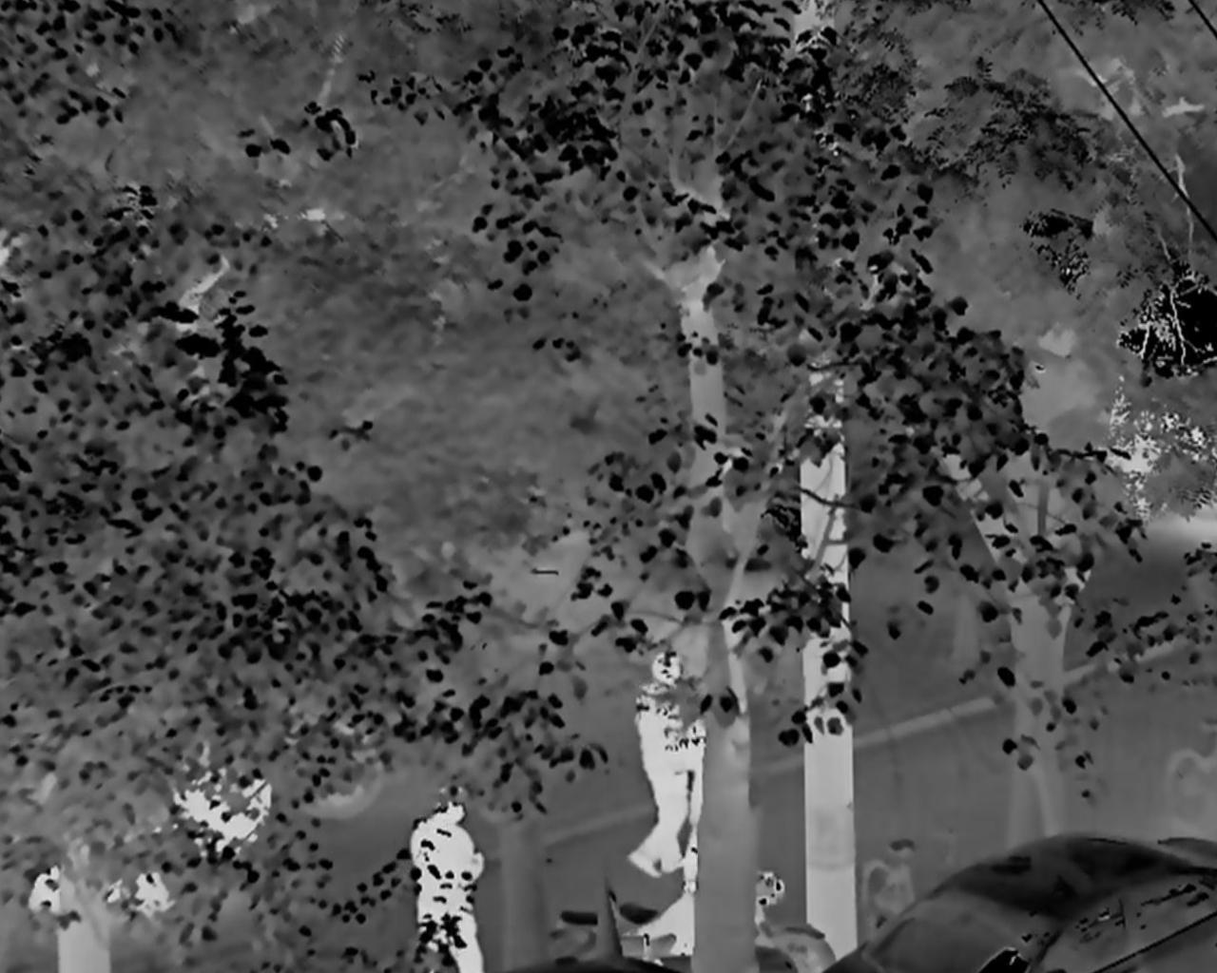person: (409, 784, 483, 973), (627, 649, 685, 878), (685, 710, 701, 898)
